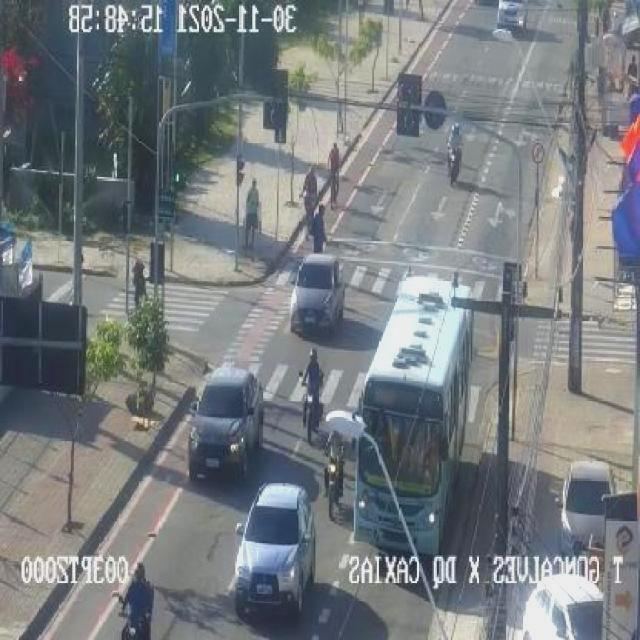Bus: (355, 271, 484, 559)
Car: (232, 484, 314, 620), (186, 367, 262, 481), (277, 252, 351, 335), (521, 574, 604, 638), (561, 462, 615, 554), (494, 0, 526, 38)
Cycle: (106, 606, 171, 640), (303, 192, 343, 237), (434, 135, 478, 175), (317, 158, 356, 198)
